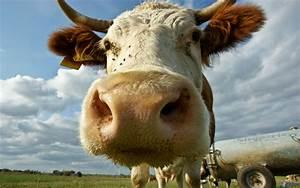cow: (47, 0, 267, 187)
